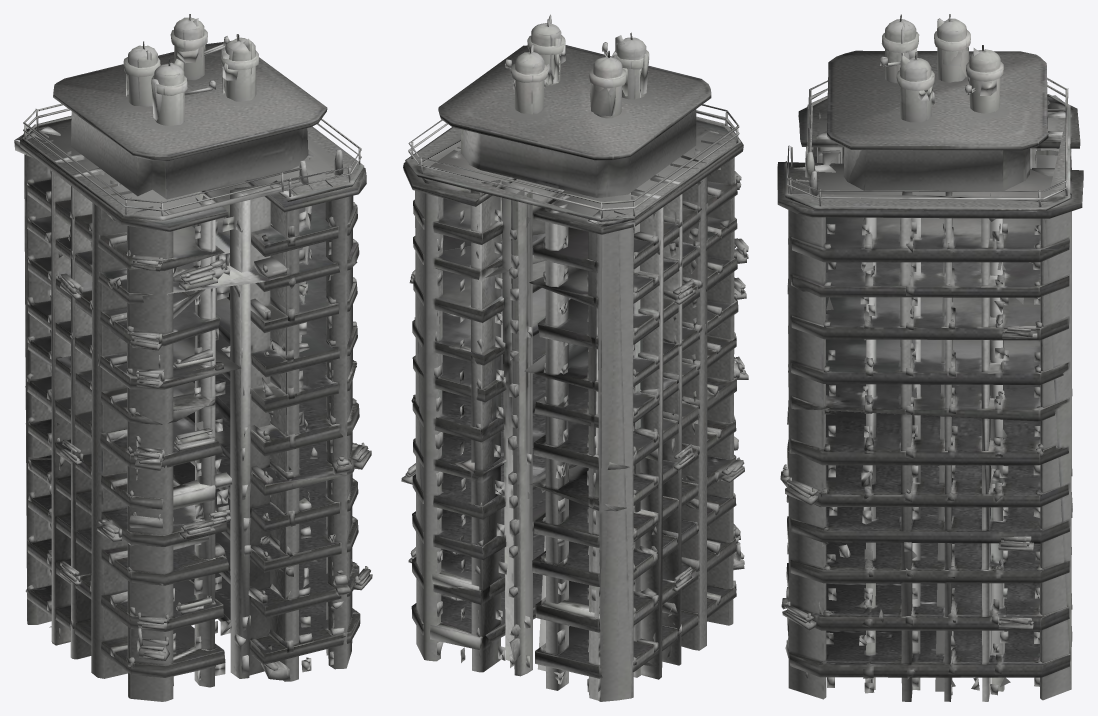
File: bld_apart.glb
3 views of the same model, side by side, from view 1: azimuth 30°, elevation 25°; view 2: azimuth 150°, elevation 25°; view 3: azimuth 270°, elevation 25° (orthographic). The views are drawn at different scales.
Size of the model in its own units: 0.4409 by 1 by 0.4532.
1 material, 1 textured.
